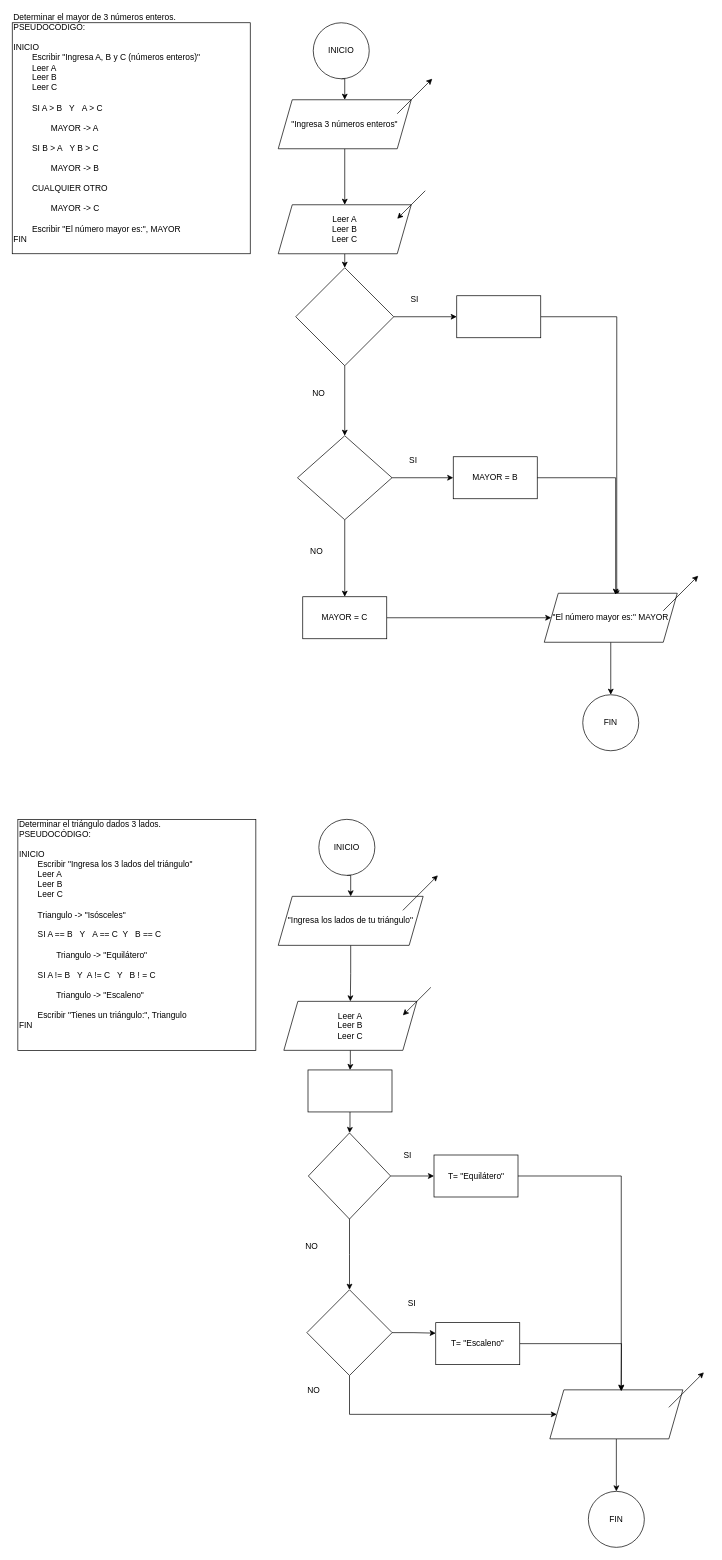
This 722x1560 diagram has some shape labels left out. Here are the shapes that lost their labels. From the top down, the centre of each, then its label:
[344,316]: A > B Y A > C
[498,316]: MAYOR = A
[344,477]: B > A Y B > C
[349,1090]: T = "Isósceles"
[349,1175]: A == B Y B == C Y C == A
[349,1332]: A != B Y B != C Y C != A
[616,1414]: "Tu triángulo es:", T
